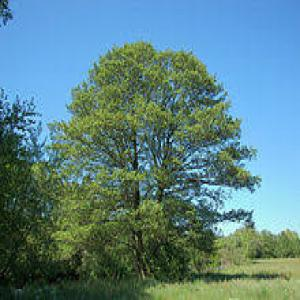Tree: (48, 38, 256, 275)
